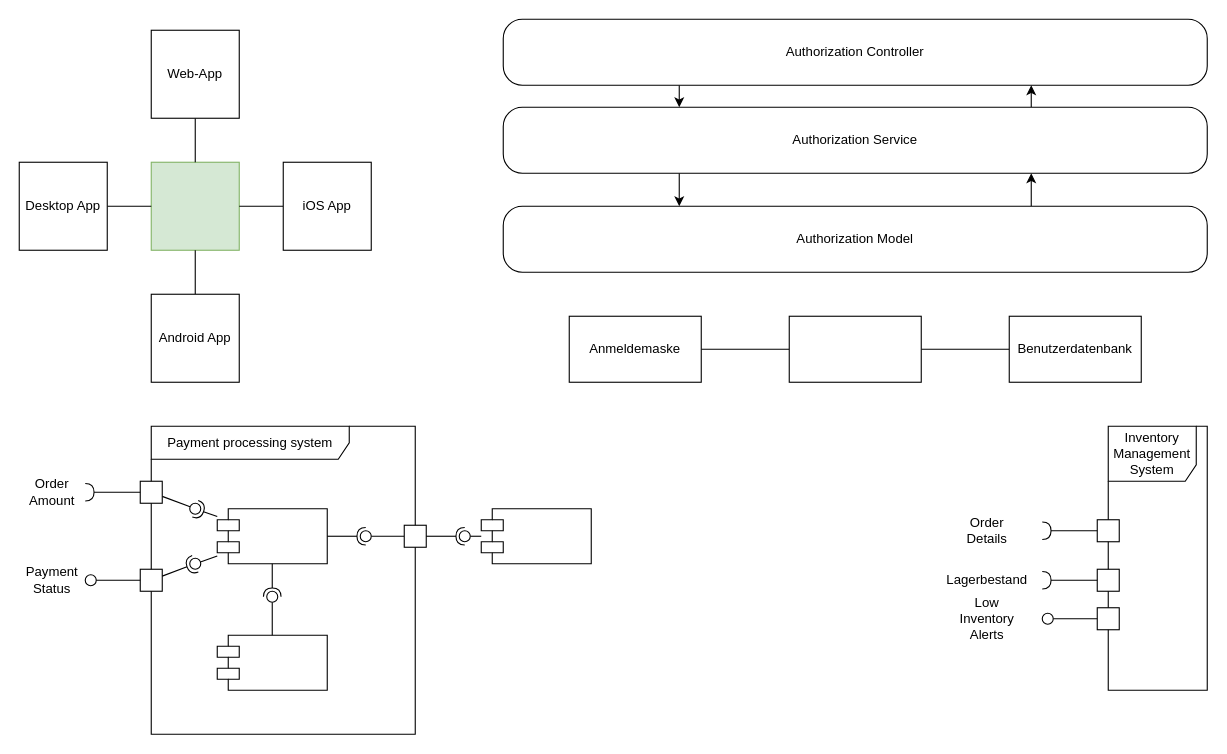
Image size: 1227x754. Some labels were removed from this diagram. The shapes that lost their labels are listed below. From the top down, each one's centre as x and y in pixels, then its label:
[194,205]: OAuth
[854,348]: Authorisation Server
[271,536]: : Rechnungen Service
[535,536]: : Bank Account
[271,662]: : Email Service
